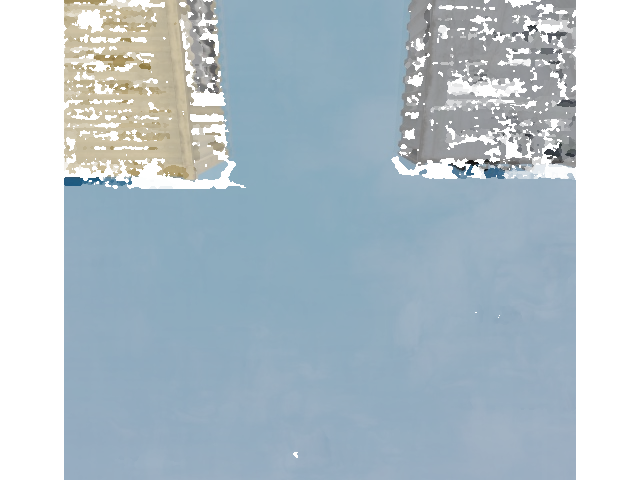container1: (390, 0, 631, 177)
container3: (0, 0, 243, 186)
